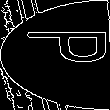P_E: (5, 37, 105, 73)
